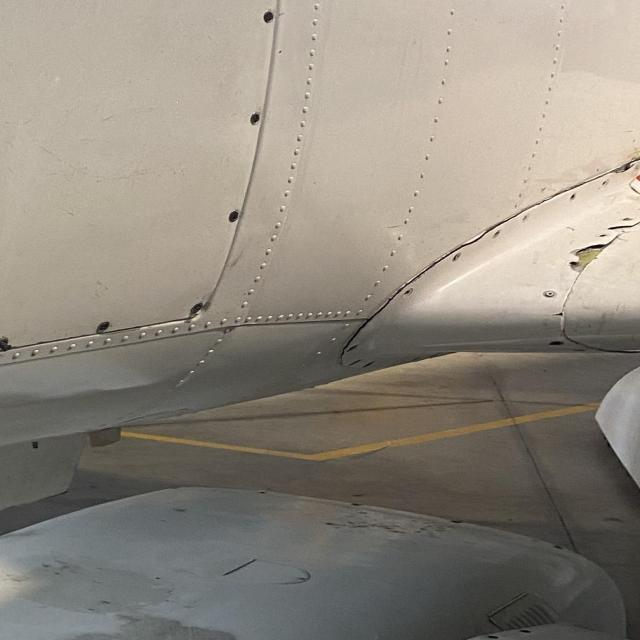Crack: (404, 230, 489, 285), (547, 158, 640, 200), (339, 292, 397, 359), (567, 224, 633, 272), (549, 308, 564, 319)
Missing-head: (400, 286, 416, 299), (346, 343, 361, 353), (491, 229, 503, 239), (546, 341, 565, 347), (570, 194, 576, 201)
